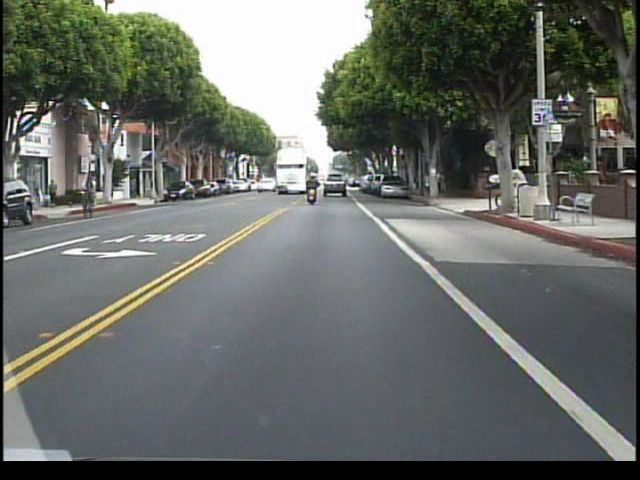person: (80, 172, 101, 214), (305, 169, 324, 210), (420, 169, 431, 198), (441, 169, 450, 196), (434, 170, 442, 195)
